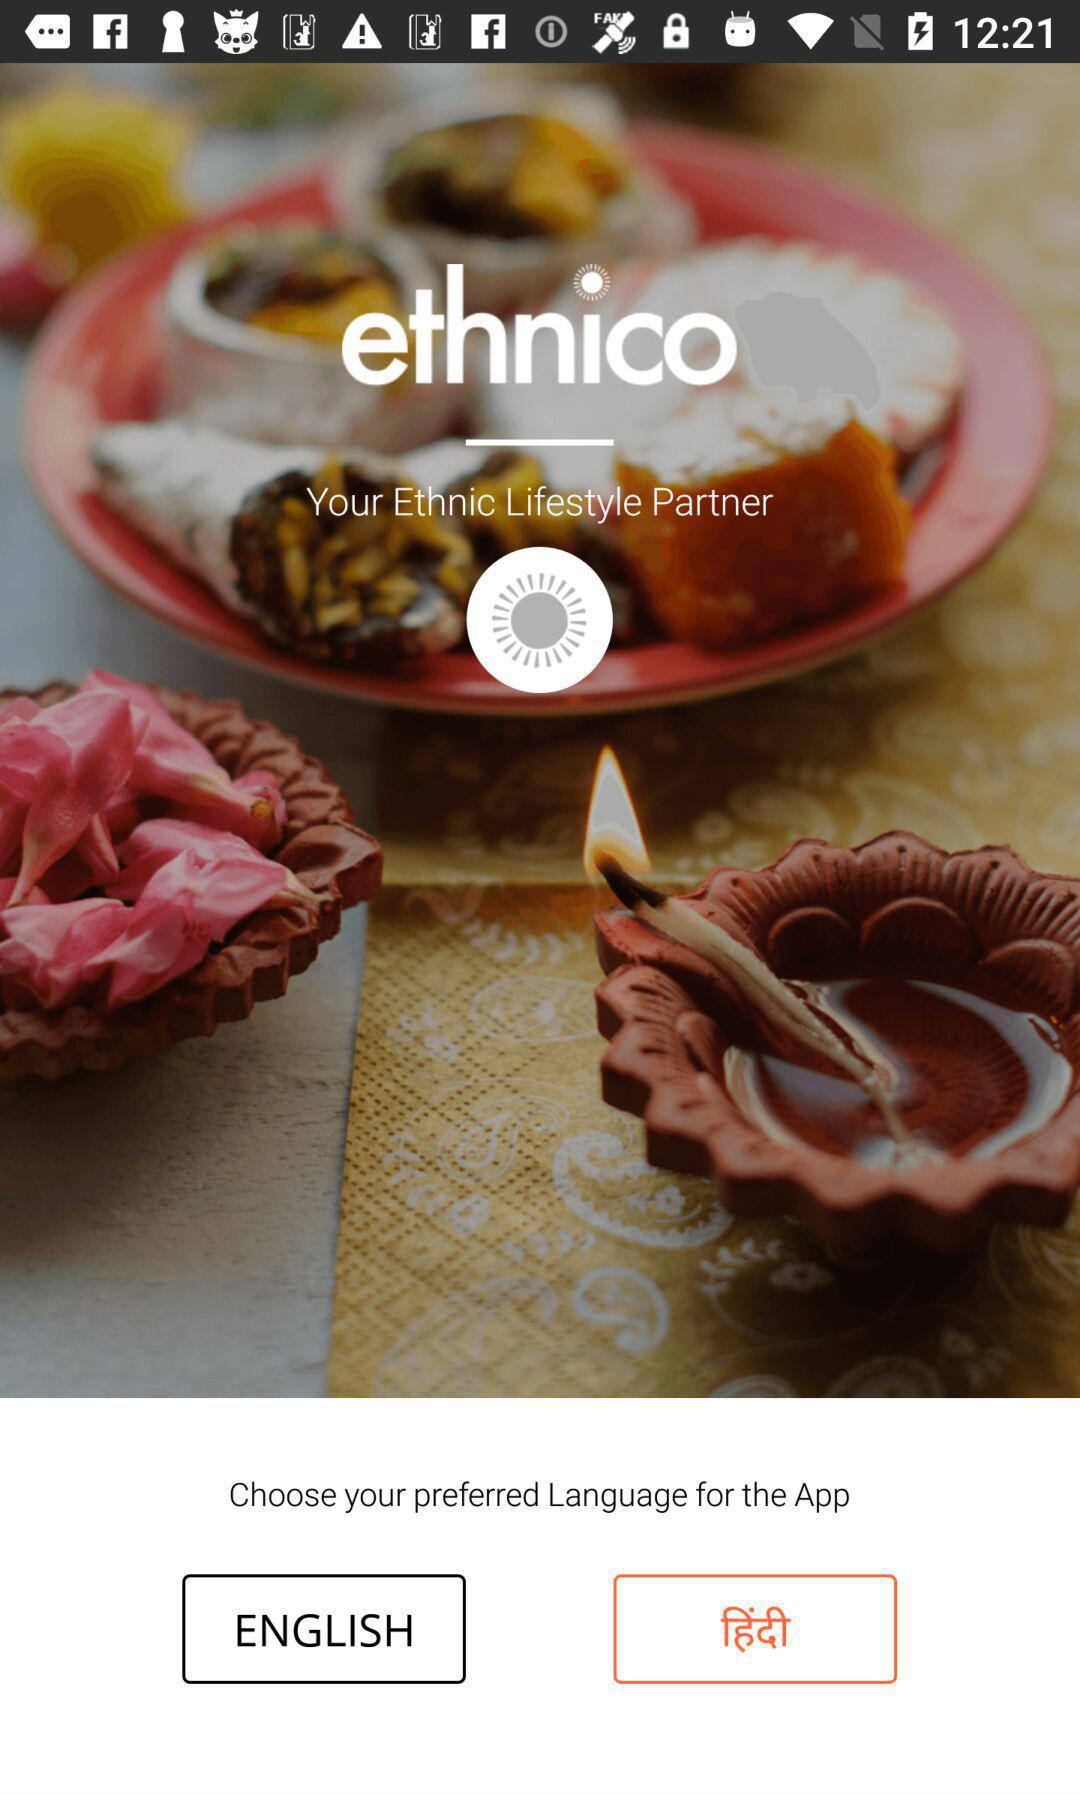Image: (1, 64, 1080, 1398), (341, 263, 739, 388), (465, 546, 614, 697)
Text: (231, 1480, 851, 1515), (305, 484, 775, 525)
TextButton: (612, 1574, 898, 1685), (182, 1574, 468, 1685)
UpperTaskBar: (1, 1, 1080, 64)
